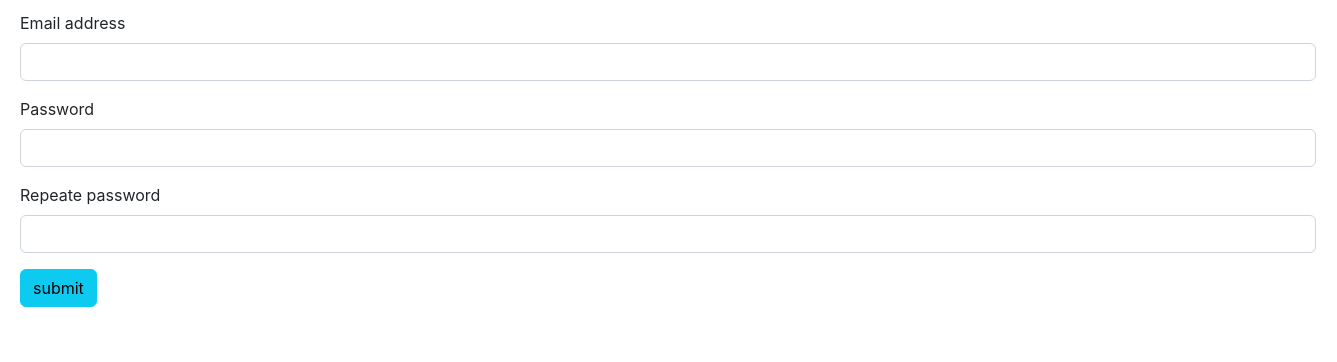
should show confirm password error message on invalid confirm password
Type "ismaelcobo@gmail.com" into the field labelled "Email". click: (668, 62)
box: 20,43 -> 1316,81
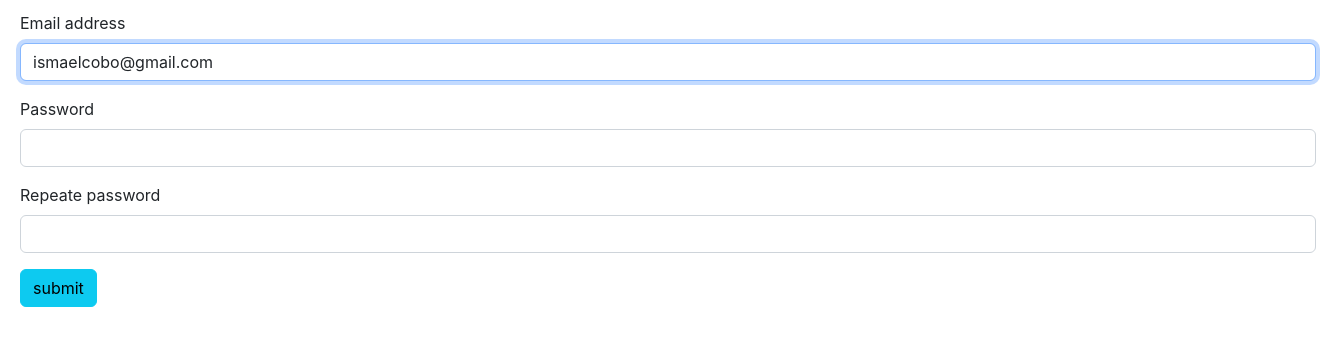
Type "12345" into the password field labelled "Password". click: (668, 148)
box: 20,129 -> 1316,167
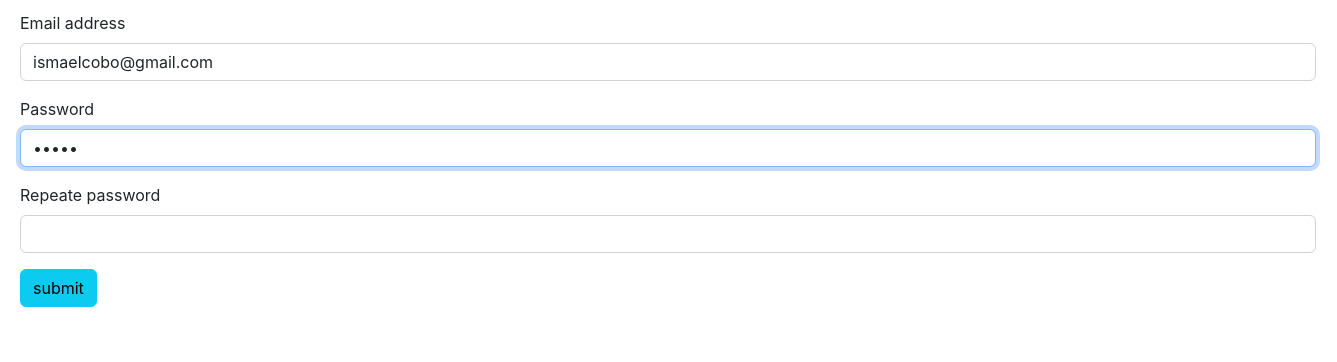
Type "123456" into the password field labelled "Repeate password". click: (668, 234)
box: 20,215 -> 1316,253
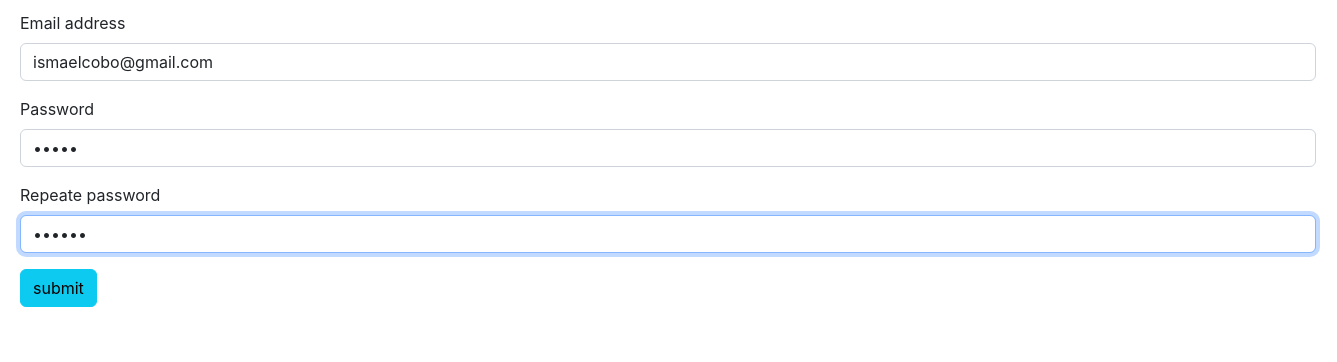
Click the button with aria-label "submitButton". click: (58, 288)
box: 20,269 -> 97,307
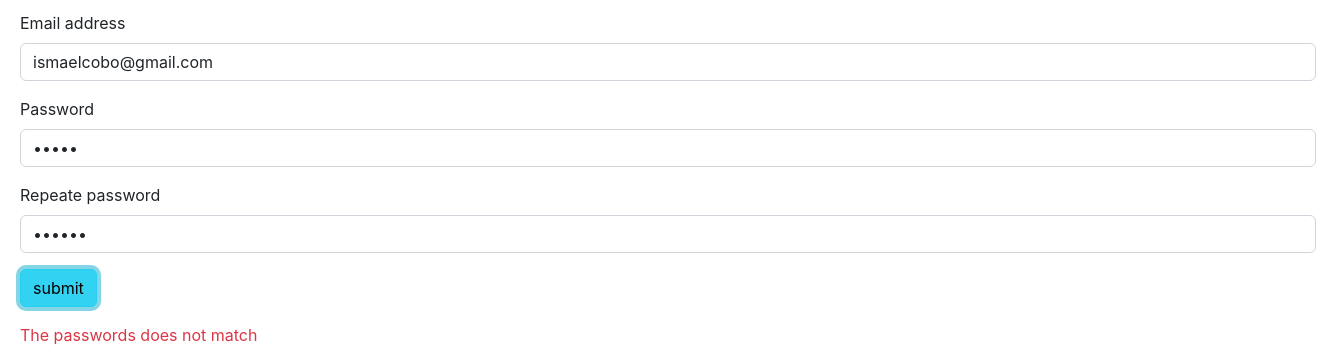
Result: the text "The passwords does not match" is shown at 20,325 -> 258,345
